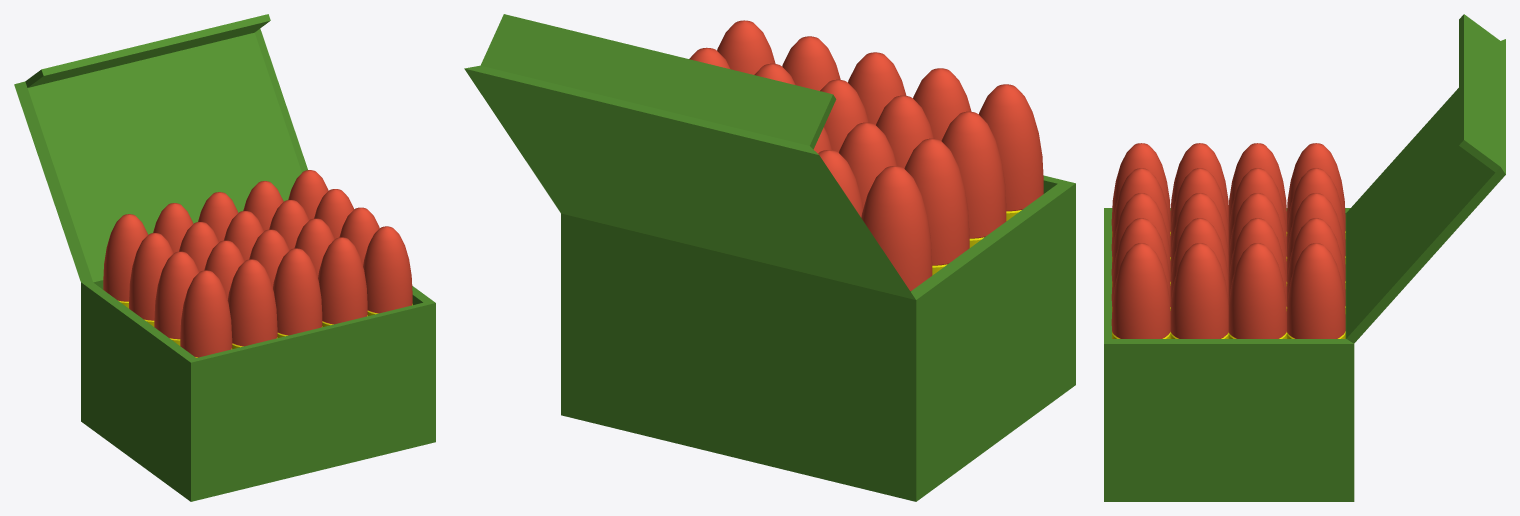
File: BoxBullets.fbx
The picture shows the model from 3 angles, left to right: view 1: azimuth 30°, elevation 25°; view 2: azimuth 150°, elevation 25°; view 3: azimuth 270°, elevation 25°; orthographic projection. The views are drawn at different scales.
Parts seen in each view (by area): view 1: Box, Bullet.019, Bullet.018, Bullet.017, Bullet.015, Bullet.016, Bullet.014, Bullet, Bullet.009, Bullet.012, Bullet.013, Bullet.010 (+9 smaller); view 2: Box, Bullet, Bullet.019, Bullet.009, Bullet.014, Bullet.008, Bullet.018, Bullet.016, Bullet.013, Bullet.015, Bullet.017, Bullet.011 (+1 smaller); view 3: Box, Bullet.015, Bullet.005, Bullet.004, Bullet.010, Bullet.019, Bullet.016, Bullet.018, Bullet.017, Bullet.003, Bullet, Bullet.006 (+9 smaller).
Part boxes in pixels (x1=…): Box: x1=14, y1=14, x2=435, y2=501; Bullet.019: x1=180, y1=270, x2=232, y2=357; Bullet.018: x1=227, y1=259, x2=277, y2=349; Bullet.017: x1=318, y1=237, x2=367, y2=327; Bullet.015: x1=363, y1=226, x2=412, y2=315; Bullet.016: x1=273, y1=248, x2=322, y2=337; Bullet.014: x1=154, y1=251, x2=199, y2=345; Bullet: x1=103, y1=214, x2=147, y2=308; Bullet.009: x1=129, y1=233, x2=173, y2=326; Bullet.012: x1=294, y1=218, x2=334, y2=277; Bullet.013: x1=204, y1=240, x2=244, y2=299; Bullet.010: x1=339, y1=207, x2=379, y2=265; Box: x1=464, y1=14, x2=1075, y2=501; Bullet: x1=861, y1=166, x2=932, y2=291; Bullet.019: x1=978, y1=84, x2=1043, y2=220; Bullet.009: x1=904, y1=138, x2=969, y2=275; Bullet.014: x1=941, y1=111, x2=1006, y2=247; Bullet.008: x1=839, y1=122, x2=897, y2=208; Bullet.018: x1=913, y1=68, x2=971, y2=140; Bullet.016: x1=848, y1=52, x2=906, y2=124; Bullet.013: x1=876, y1=95, x2=933, y2=168; Bullet.015: x1=717, y1=20, x2=775, y2=74; Bullet.017: x1=782, y1=36, x2=840, y2=90; Bullet.011: x1=820, y1=79, x2=868, y2=152; Box: x1=1104, y1=14, x2=1505, y2=501; Bullet.015: x1=1111, y1=243, x2=1170, y2=338; Bullet.005: x1=1228, y1=243, x2=1286, y2=338; Bullet.004: x1=1287, y1=243, x2=1345, y2=338; Bullet.010: x1=1170, y1=243, x2=1228, y2=338; Bullet.019: x1=1111, y1=143, x2=1170, y2=236; Bullet.016: x1=1111, y1=193, x2=1170, y2=286; Bullet.018: x1=1111, y1=168, x2=1170, y2=261; Bullet.017: x1=1111, y1=218, x2=1170, y2=311; Bullet.003: x1=1287, y1=193, x2=1345, y2=288; Bullet: x1=1287, y1=143, x2=1345, y2=238; Bullet.006: x1=1228, y1=193, x2=1286, y2=285.
Bounding box in the file's own units: 264 × 324 × 331.
